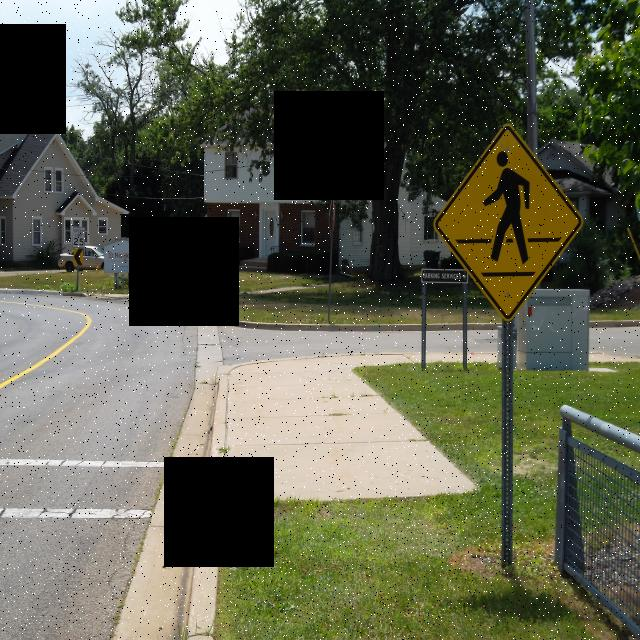regulatory: (73, 226, 85, 248)
warning: (431, 123, 584, 322), (211, 219, 239, 259), (214, 252, 233, 280), (70, 246, 84, 268)
